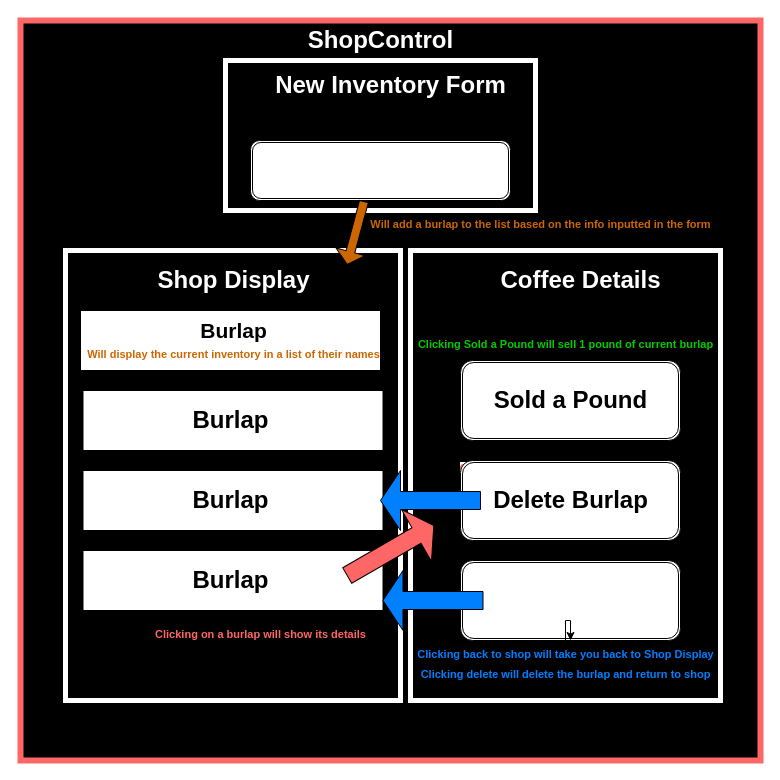
Image size: 780x780. Some labels were removed from this diagram. The centre of each missing label's shape, as x and y in pixels:
Add Burlap: pixel 380 170
Back to Shop: pixel 570 600
